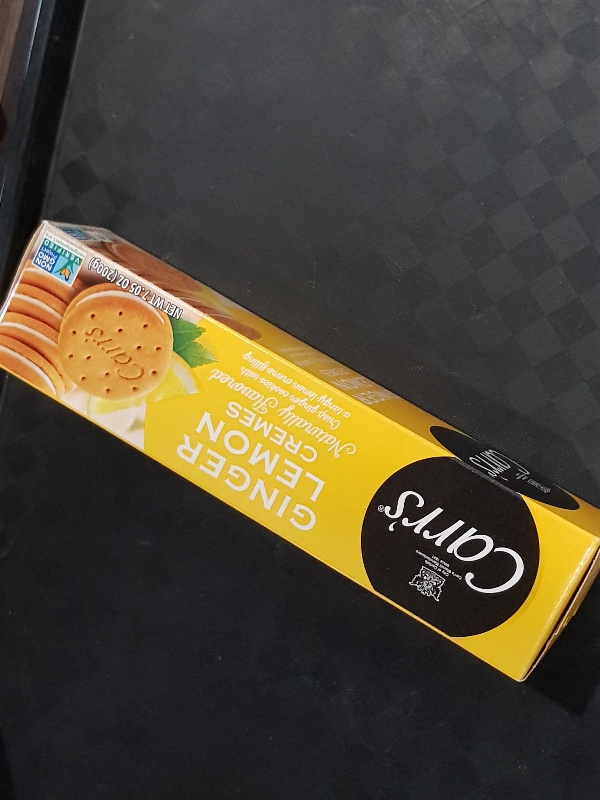Carr's Ginger Lemon Cremes: (1, 220, 600, 683)
